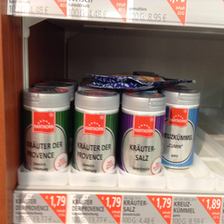spices: (23, 86, 70, 171), (74, 88, 118, 172), (121, 91, 165, 173), (161, 91, 200, 170)
